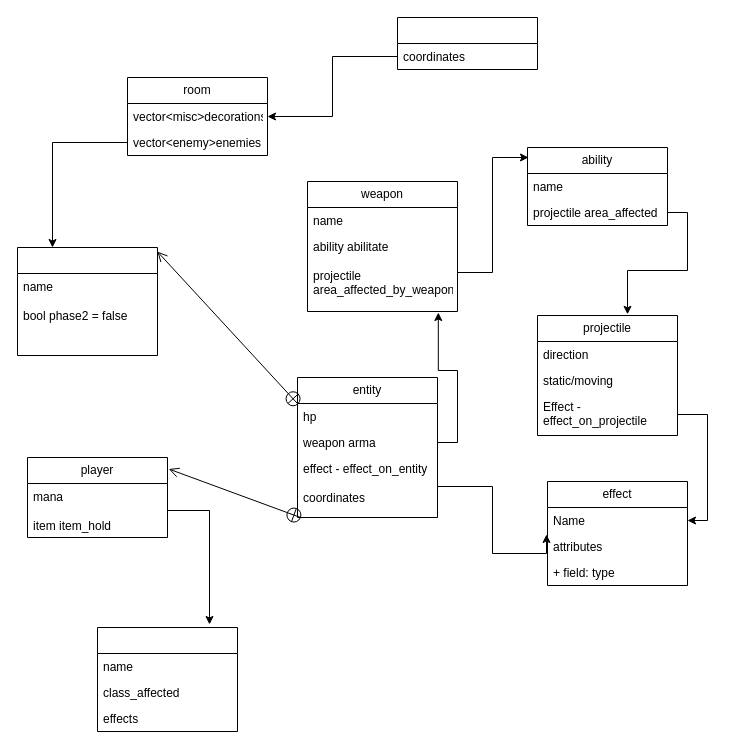
This 733x752 diagram has some shape labels left out. Here are the shapes that lost their labels. From the top down, the box of each, then its label:
(396, 16, 538, 70): misc
(16, 246, 158, 356): enemy
(96, 626, 238, 732): item
